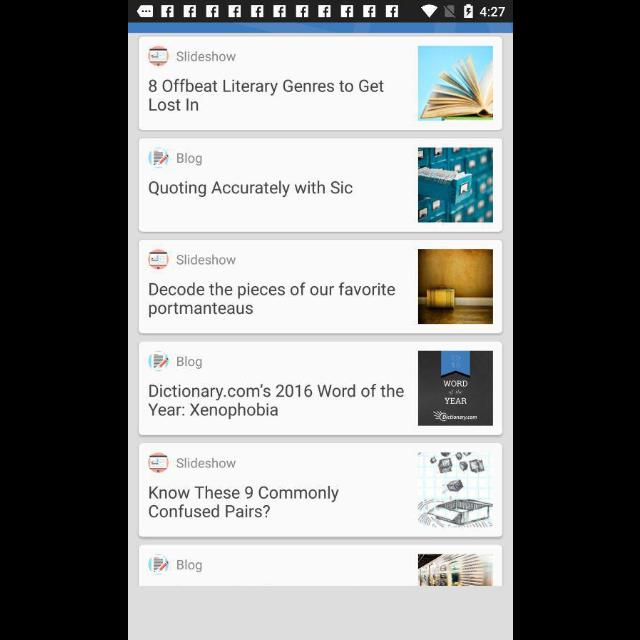image: (418, 453, 492, 529), (418, 350, 492, 426), (418, 148, 492, 224), (418, 250, 492, 324), (418, 47, 492, 121), (416, 554, 492, 586), (148, 452, 168, 473), (148, 554, 168, 574), (148, 352, 168, 372), (148, 250, 168, 270), (148, 149, 168, 169), (148, 46, 168, 66)
panel: (137, 442, 503, 540), (136, 239, 504, 335), (137, 137, 503, 233), (136, 342, 504, 436), (138, 36, 502, 130)
text: (148, 383, 404, 419), (148, 282, 394, 318), (148, 78, 384, 112), (148, 486, 338, 518), (148, 180, 352, 198), (177, 51, 236, 63), (176, 457, 234, 469), (176, 254, 234, 266), (176, 559, 202, 573), (176, 355, 202, 369), (176, 153, 202, 167)
uppertaskbar: (128, 1, 512, 23)
